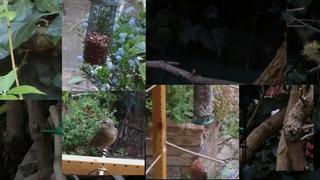starling: (82, 118, 118, 157)
